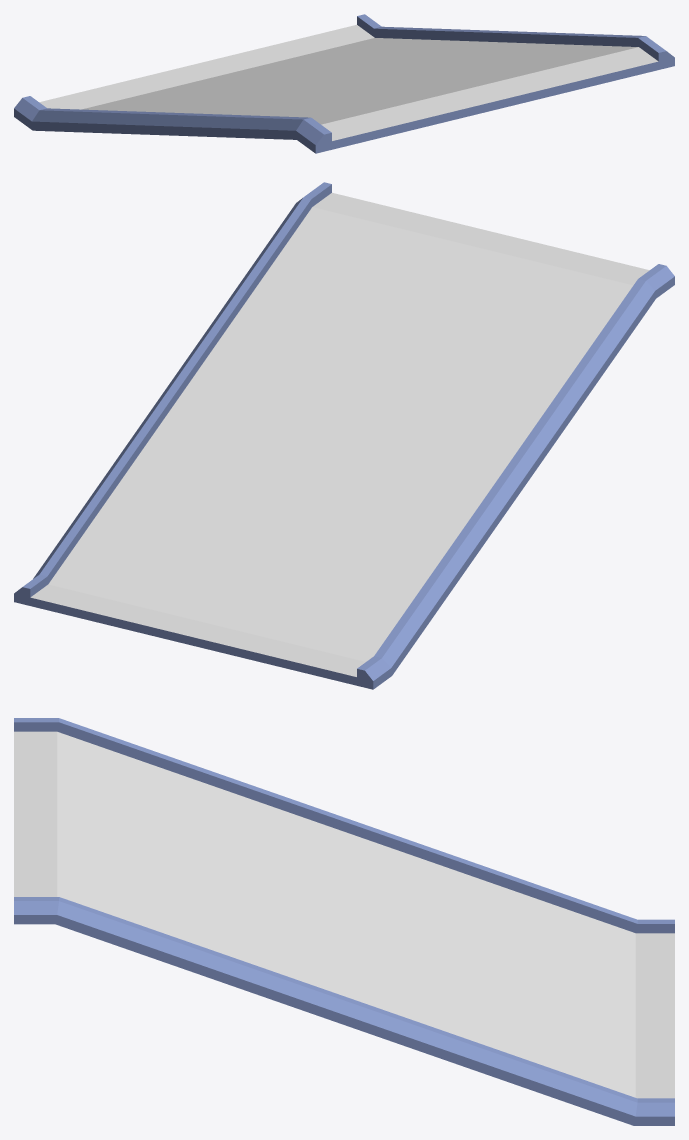
Rendered from tile-ramp.glb.
The picture shows the model from 3 angles, top to bottom: view 1: azimuth 30°, elevation 25°; view 2: azimuth 150°, elevation 25°; view 3: azimuth 270°, elevation 25°; orthographic projection. The views are drawn at different scales.
Visible parts, largest first — view 1: tile-ramp; view 2: tile-ramp; view 3: tile-ramp.
Boxes of the visible parts, x1,y1,x2,y2 form: tile-ramp: [14, 14, 674, 153]; tile-ramp: [14, 182, 674, 689]; tile-ramp: [14, 718, 674, 1125].
Size of the model in its own units: 11 by 5.88 by 16.
